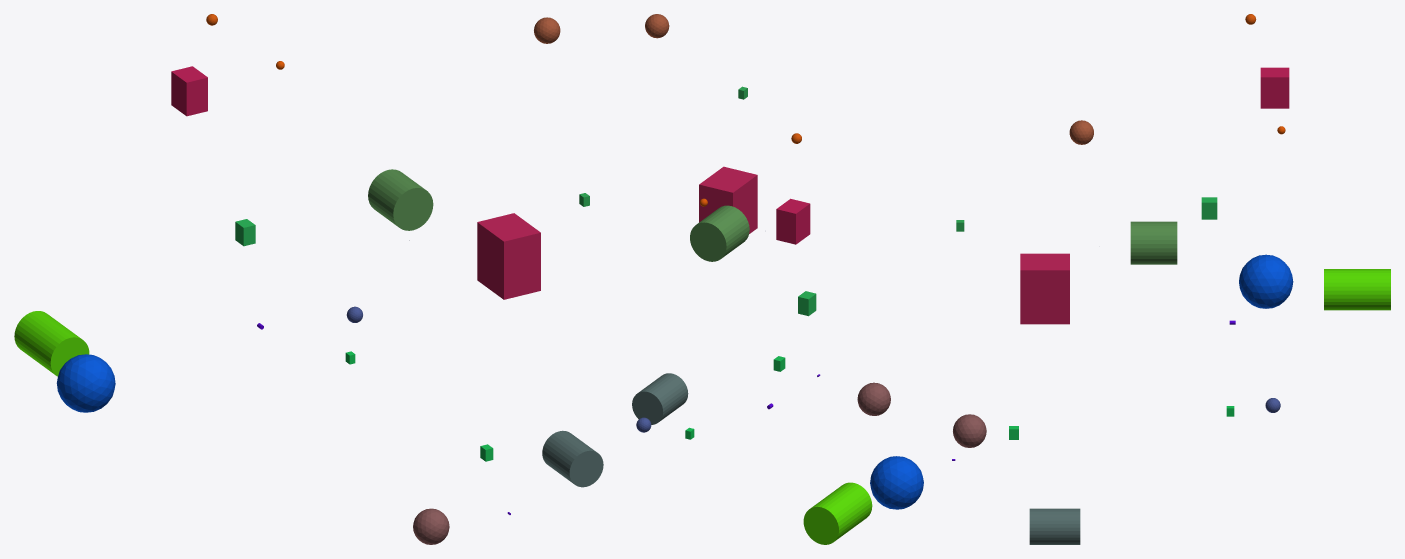
The model's file is basic_shapes_trimesh.obj.
The picture shows the model from 3 angles, left to right: view 1: azimuth 30°, elevation 25°; view 2: azimuth 150°, elevation 25°; view 3: azimuth 270°, elevation 25°; orthographic projection. The views are drawn at different scales.
Parts seen in each view (by area): view 1: geometry_11, geometry_9, geometry_12, geometry_10, geometry_0, geometry_8, geometry_13; view 2: geometry_9, geometry_11, geometry_12, geometry_10, geometry_0, geometry_8, geometry_13, geometry_1, geometry_14; view 3: geometry_11, geometry_9, geometry_10, geometry_12, geometry_0, geometry_8, geometry_13.
Boxes of the visible parts, <box> form: geometry_11: <box>477,213,540,299</box>; geometry_9: <box>14,311,89,376</box>; geometry_12: <box>368,169,433,230</box>; geometry_10: <box>56,354,115,412</box>; geometry_0: <box>542,430,603,487</box>; geometry_8: <box>171,66,207,116</box>; geometry_13: <box>413,508,449,544</box>; geometry_9: <box>803,482,872,544</box>; geometry_11: <box>699,166,757,233</box>; geometry_12: <box>690,205,749,261</box>; geometry_10: <box>870,456,923,509</box>; geometry_0: <box>632,373,688,424</box>; geometry_8: <box>776,198,810,244</box>; geometry_13: <box>857,382,890,415</box>; geometry_1: <box>645,14,669,38</box>; geometry_14: <box>798,291,816,316</box>; geometry_11: <box>1020,253,1069,324</box>; geometry_9: <box>1324,269,1390,310</box>; geometry_10: <box>1239,254,1293,308</box>; geometry_12: <box>1130,221,1177,264</box>; geometry_0: <box>1029,508,1080,544</box>; geometry_8: <box>1260,67,1289,108</box>; geometry_13: <box>953,414,986,447</box>.
Bounding box in the file's own units: 3.97 × 4.12 × 3.93.
